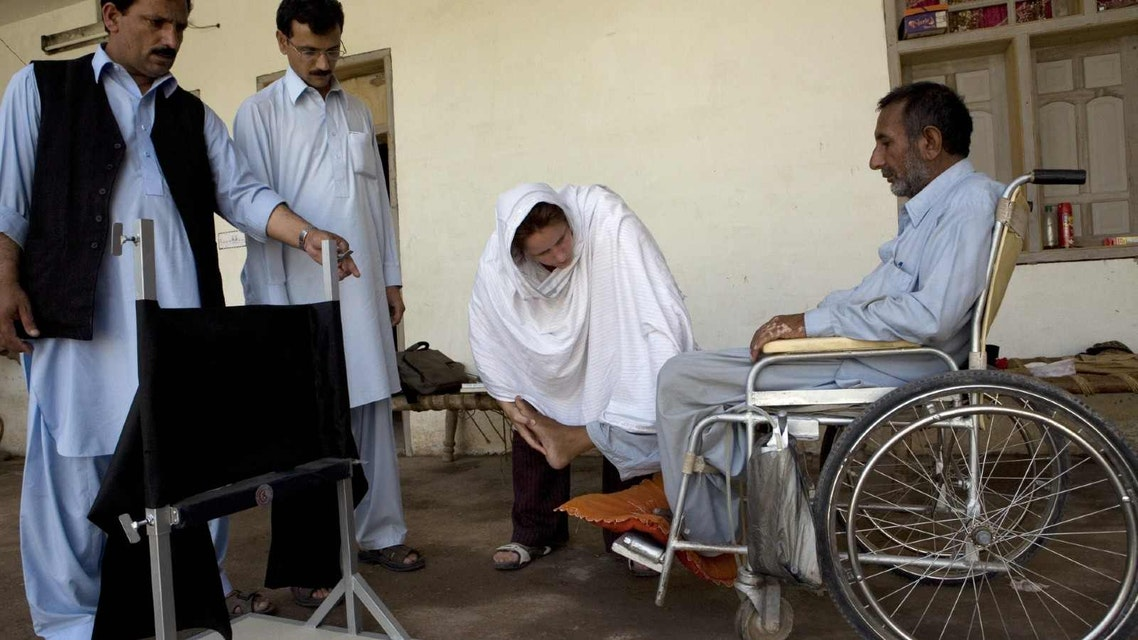patient: (642, 79, 1012, 568)
staff: (1, 1, 230, 630), (230, 5, 426, 575)
visitor: (465, 181, 708, 586)
wheel_chair: (627, 172, 1137, 636)
